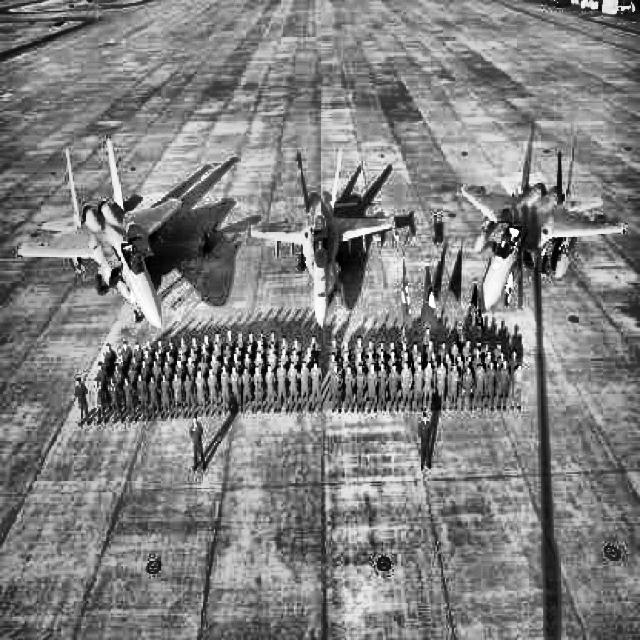F15: (458, 120, 630, 317), (17, 138, 181, 328)
F18: (244, 150, 399, 330)
